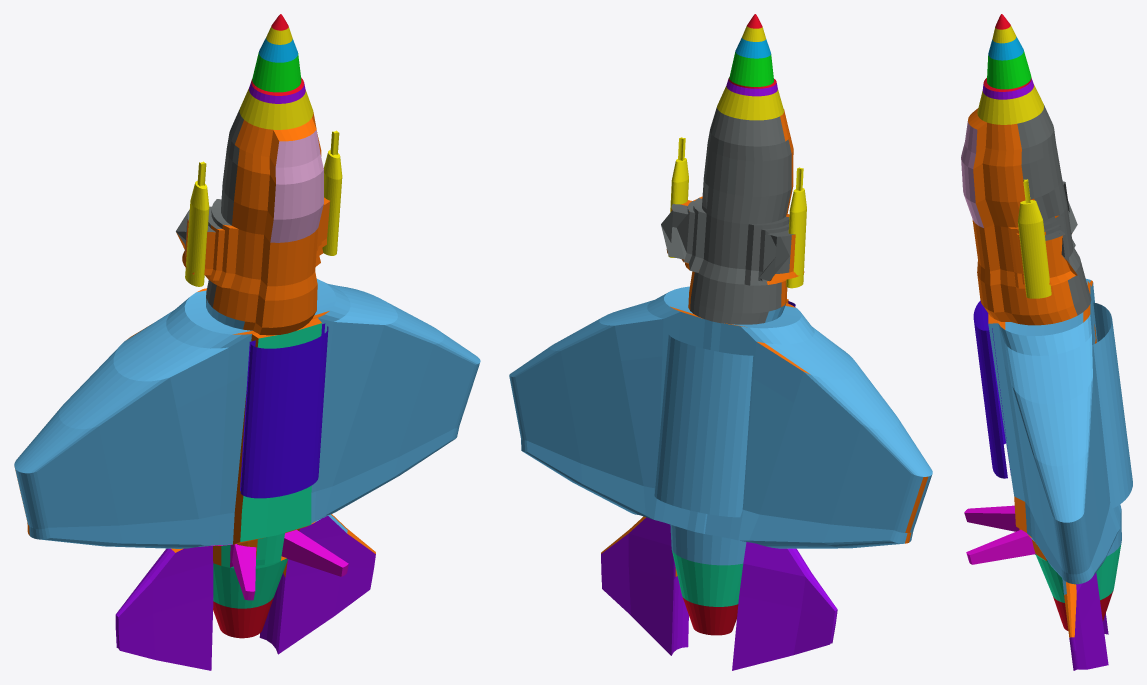
The model's file is monkey.gltf.
3 views of the same model, side by side, from view 1: azimuth 30°, elevation 25°; view 2: azimuth 150°, elevation 25°; view 3: azimuth 270°, elevation 25° (orthographic). The views are drawn at different scales.
Visible parts, largest first — view 1: Cylinder, Cylinder.001, Cylinder.002; view 2: Cylinder, Cylinder.001, Cylinder.002; view 3: Cylinder, Cylinder.002.
Part boxes in pixels (<box>): Cylinder: <box>14,14,480,670</box>; Cylinder.001: <box>185,161,209,286</box>; Cylinder.002: <box>322,130,342,255</box>; Cylinder: <box>509,14,932,670</box>; Cylinder.001: <box>786,167,806,288</box>; Cylinder.002: <box>668,137,688,257</box>; Cylinder: <box>961,14,1132,670</box>; Cylinder.002: <box>1017,179,1051,298</box>.
Size of the model in its own units: 6.55 by 9.18 by 2.24.
